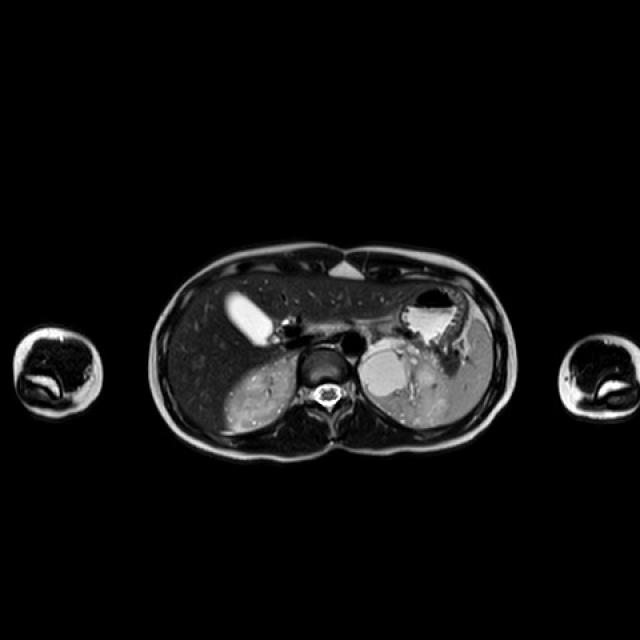sag: (226, 361, 295, 432)
sol: (357, 337, 450, 431)
